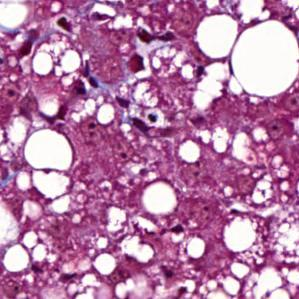steatosis: (22, 129, 76, 172), (143, 178, 182, 226)
